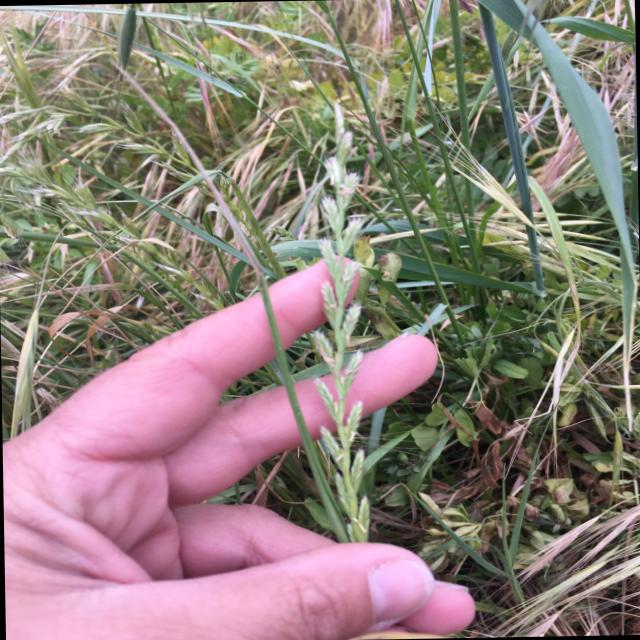Lolium: (254, 103, 384, 550), (1, 153, 226, 315), (0, 82, 197, 170)
